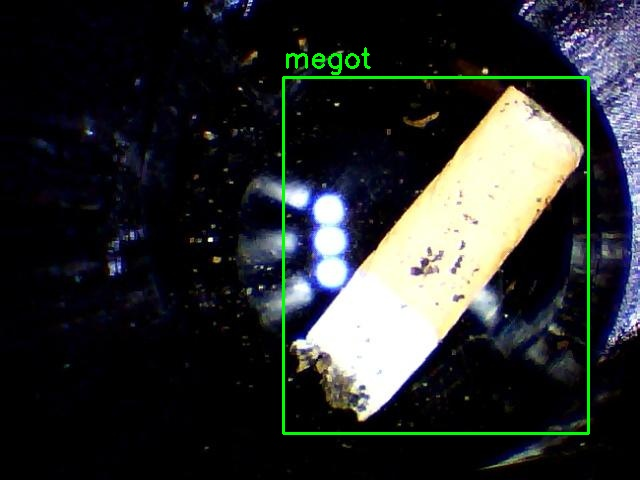megot: (283, 77, 588, 433)
